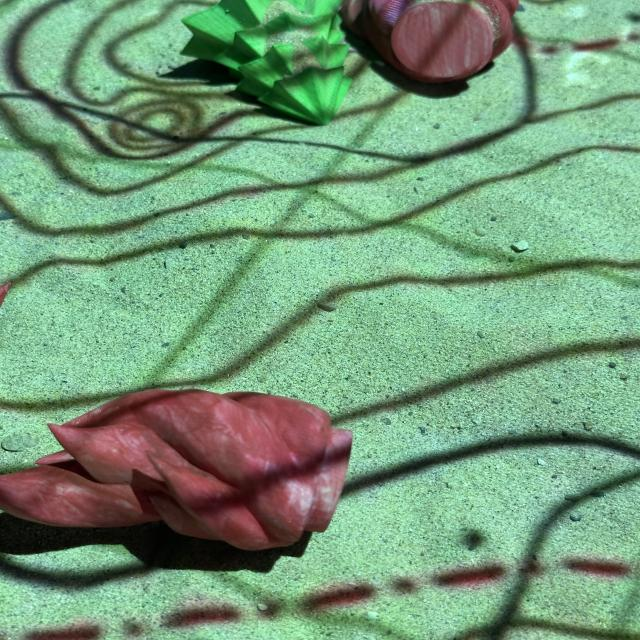fire: (1, 389, 354, 553), (348, 0, 520, 87)
tree: (178, 0, 354, 126)
